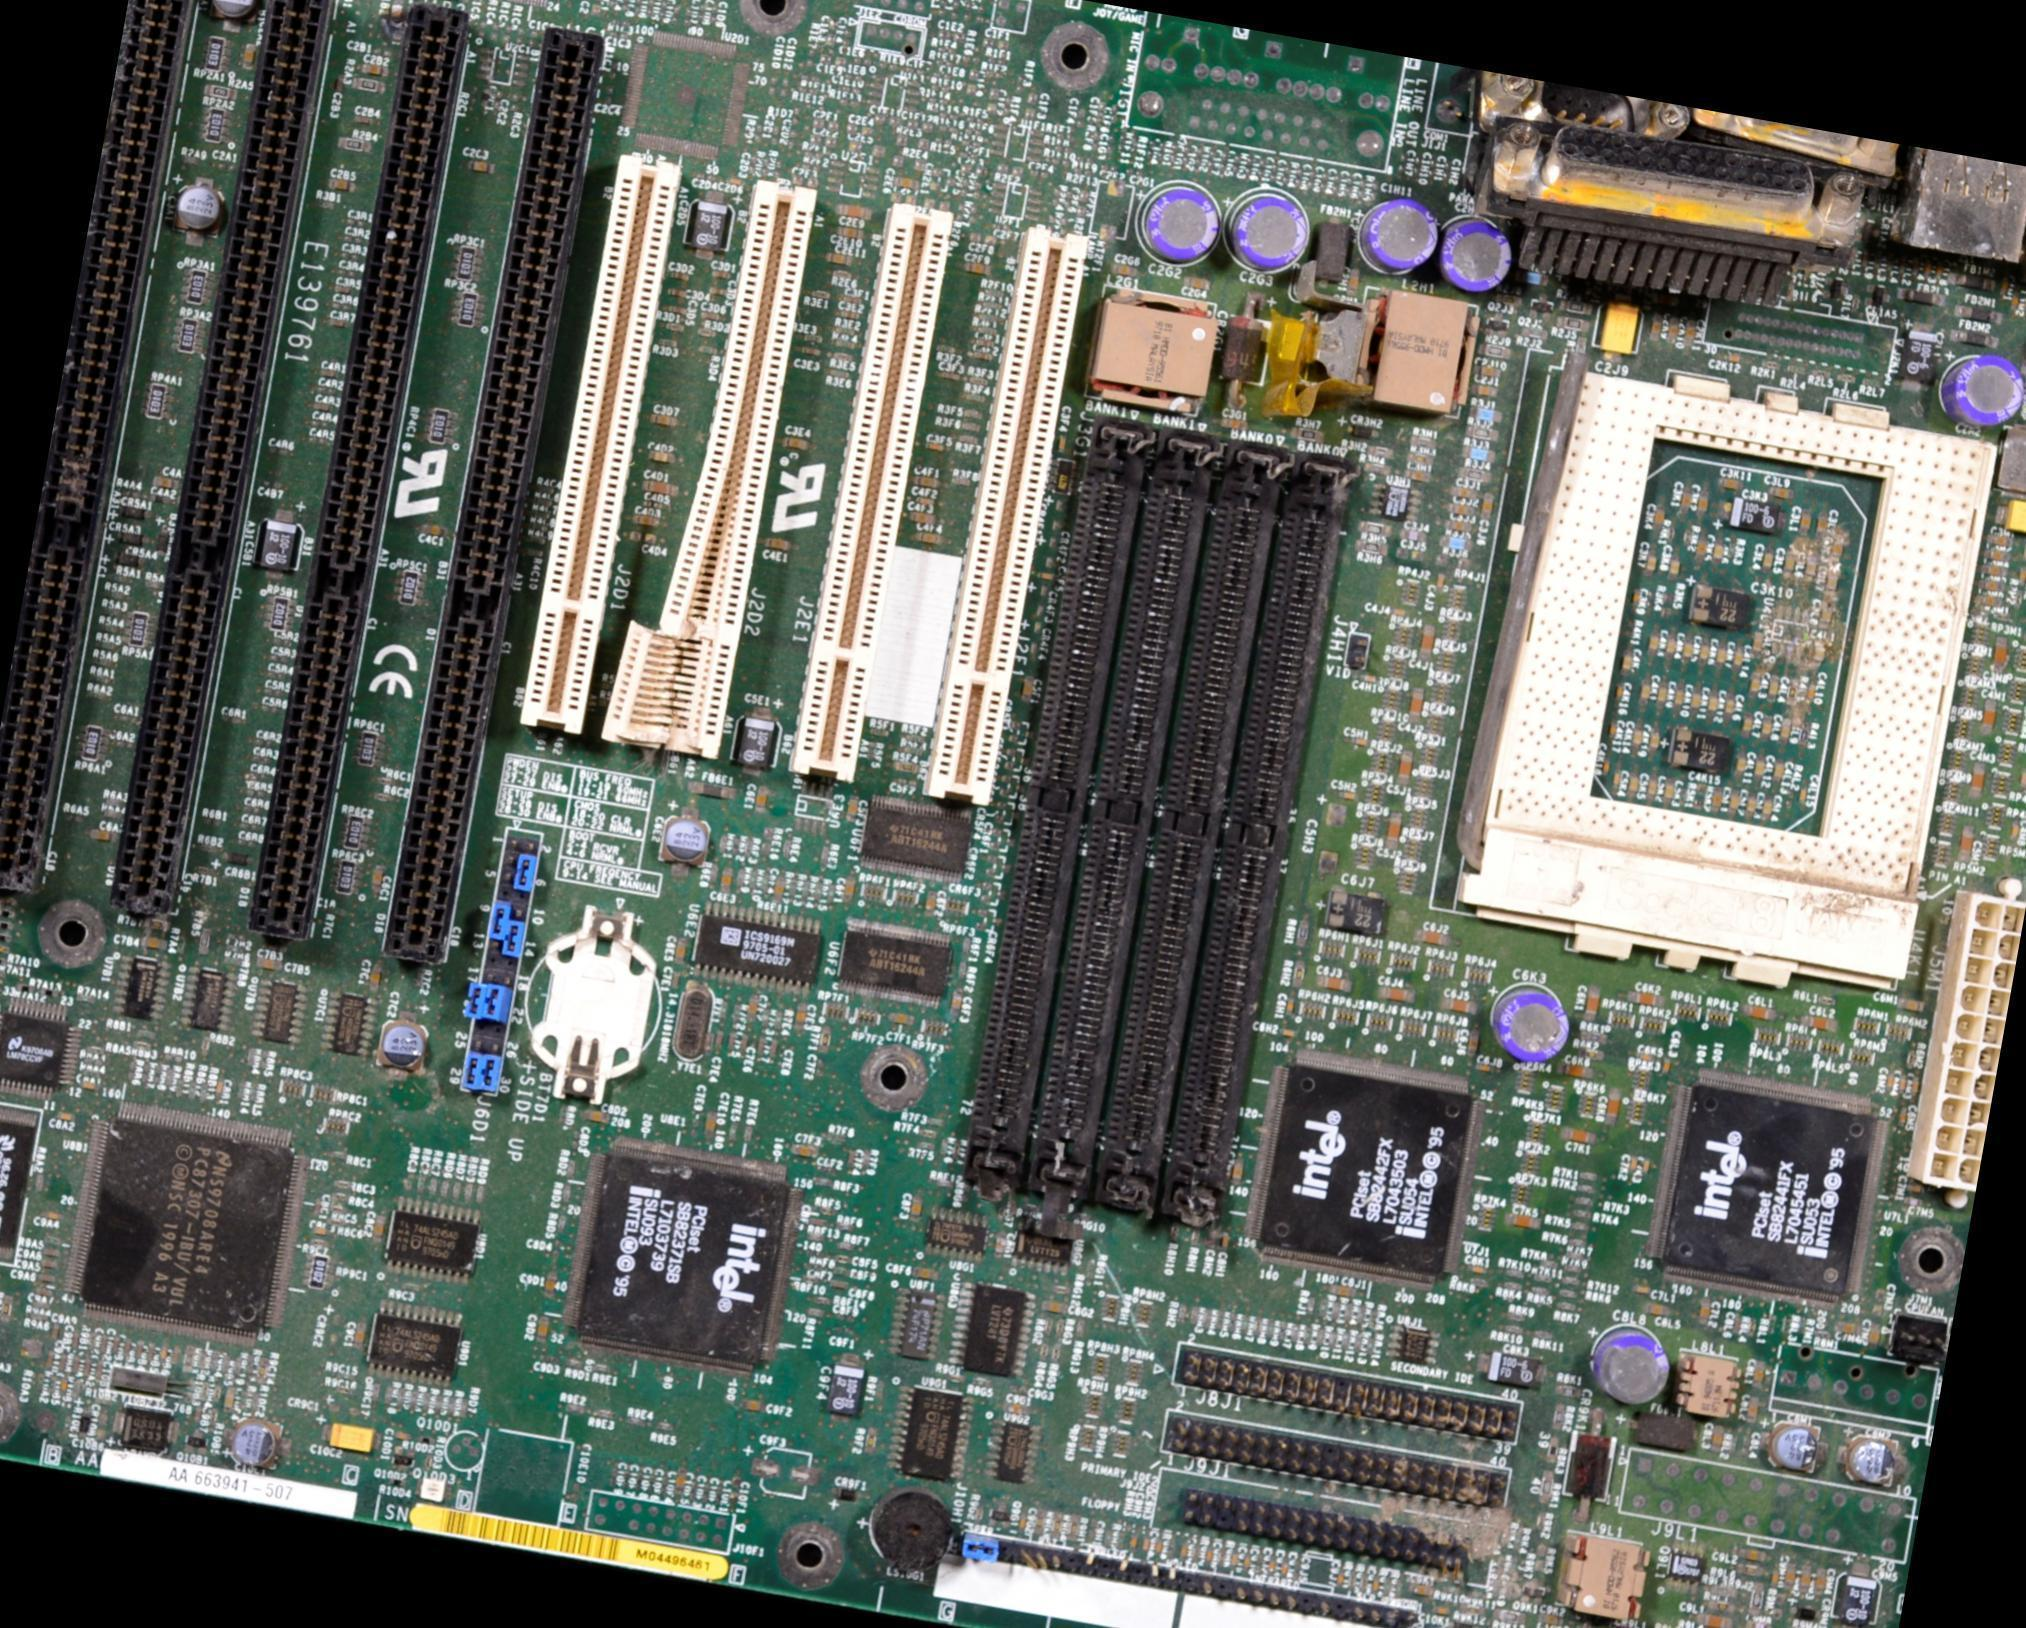Capacitor: (1375, 984, 1419, 1005), (1412, 928, 1455, 949), (832, 202, 874, 223), (1314, 973, 1354, 993), (1603, 1086, 1622, 1126), (1979, 697, 1999, 738), (1967, 762, 1988, 799), (1384, 812, 1404, 851), (1417, 622, 1435, 662), (1625, 989, 1665, 1006), (1989, 635, 2010, 671), (640, 479, 680, 497), (1038, 1294, 1069, 1316), (1802, 1014, 1839, 1032), (1956, 825, 1975, 863), (1741, 1004, 1775, 1021), (1584, 984, 1602, 1018), (1439, 996, 1474, 1015), (1561, 1126, 1596, 1145), (1505, 1212, 1540, 1231), (778, 435, 812, 453), (1558, 1063, 1594, 1080), (762, 534, 795, 552), (909, 1263, 939, 1282), (909, 1190, 925, 1224), (628, 513, 663, 530), (753, 783, 770, 814), (1735, 1545, 1767, 1564), (1797, 1562, 1813, 1594), (646, 412, 680, 429), (1409, 686, 1425, 720), (913, 528, 943, 546), (1698, 1612, 1732, 1627), (1396, 749, 1412, 784), (738, 1396, 765, 1413), (841, 874, 857, 903), (790, 1143, 820, 1160), (1666, 318, 1680, 350), (961, 260, 991, 278), (1619, 647, 1635, 676), (718, 867, 735, 894), (889, 1010, 915, 1028), (239, 43, 257, 69), (1681, 319, 1696, 350), (771, 874, 787, 902), (88, 826, 117, 842), (949, 989, 965, 1017), (140, 935, 168, 952), (582, 1108, 610, 1124), (543, 1270, 559, 1298), (646, 448, 675, 465), (369, 865, 384, 896), (368, 962, 383, 992), (1643, 1302, 1672, 1317), (1812, 1566, 1827, 1596), (325, 178, 355, 192), (1480, 491, 1495, 522), (913, 473, 943, 489), (1645, 728, 1660, 758), (255, 956, 283, 972), (832, 226, 865, 240), (844, 794, 859, 822), (1897, 996, 1925, 1012), (702, 1110, 717, 1138), (1695, 1297, 1711, 1326), (1328, 1283, 1356, 1297), (1751, 1360, 1765, 1388), (1745, 1395, 1760, 1423), (1709, 1425, 1724, 1454), (535, 1314, 550, 1342), (1782, 1562, 1797, 1590), (1536, 1611, 1564, 1627), (359, 62, 387, 77), (893, 175, 921, 190), (1648, 314, 1663, 342), (1110, 263, 1137, 278), (1183, 275, 1211, 291), (467, 159, 495, 174), (1473, 384, 1501, 399), (908, 509, 936, 524), (1768, 485, 1793, 501), (1407, 1582, 1433, 1597), (824, 251, 851, 265), (152, 474, 179, 489), (1646, 774, 1660, 801), (1430, 1600, 1451, 1618), (39, 1209, 66, 1222), (419, 523, 446, 537), (1866, 1323, 1881, 1347), (1475, 364, 1500, 378), (1713, 641, 1728, 666), (1709, 787, 1724, 813), (1833, 1320, 1860, 1334), (352, 1323, 366, 1349), (1346, 267, 1360, 294), (1984, 533, 2011, 547), (1448, 502, 1474, 515), (1761, 715, 1773, 741), (1779, 718, 1792, 745), (1626, 773, 1639, 799), (923, 891, 938, 914), (793, 1002, 806, 1031), (745, 994, 757, 1023), (1721, 476, 1743, 491), (372, 1215, 386, 1240), (1140, 1531, 1153, 1556), (222, 1386, 235, 1411), (1982, 549, 2008, 561), (1449, 483, 1475, 497), (1711, 539, 1724, 563), (1445, 518, 1469, 532), (1679, 635, 1693, 660), (1749, 672, 1762, 697), (1740, 712, 1753, 738), (1630, 725, 1644, 749), (1744, 793, 1757, 817), (1021, 677, 1034, 703), (1662, 778, 1674, 805), (674, 937, 686, 963), (1004, 1400, 1028, 1414), (665, 302, 687, 315), (1696, 491, 1709, 515), (1679, 488, 1693, 512), (1220, 417, 1244, 430), (1982, 563, 2006, 576), (922, 440, 945, 453), (1698, 638, 1711, 661), (1689, 687, 1703, 711), (1672, 686, 1686, 709), (1753, 757, 1767, 780), (1734, 754, 1747, 777), (1761, 797, 1773, 820), (1666, 557, 1680, 577), (1763, 545, 1776, 570), (1694, 533, 1706, 559), (1705, 690, 1717, 714), (1728, 790, 1741, 816), (1473, 1061, 1494, 1074), (308, 1225, 328, 1237), (1203, 1542, 1215, 1564), (1724, 350, 1746, 364), (711, 268, 733, 280), (666, 285, 688, 299), (1652, 510, 1665, 532), (1978, 577, 2000, 590), (1770, 759, 1784, 781), (77, 1079, 100, 1092), (350, 114, 374, 126), (1976, 594, 2000, 606), (1645, 552, 1658, 574), (913, 495, 937, 507), (1656, 681, 1668, 704), (331, 283, 351, 295), (1664, 634, 1677, 655), (670, 970, 681, 991), (699, 309, 720, 320), (1804, 682, 1815, 705), (1767, 677, 1779, 699), (1639, 677, 1651, 700), (2007, 820, 2020, 843), (1909, 1075, 1920, 1098), (1284, 996, 1296, 1016), (1897, 1106, 1908, 1127), (670, 270, 690, 283), (707, 285, 727, 297), (1034, 570, 1054, 581), (1723, 695, 1736, 715), (54, 1111, 76, 1122), (328, 300, 351, 311), (1608, 720, 1618, 741), (1641, 1158, 1652, 1176), (325, 316, 343, 328), (317, 369, 335, 380), (1279, 1028, 1298, 1039), (1467, 1264, 1487, 1274), (1770, 1567, 1781, 1587), (335, 266, 355, 276), (1056, 434, 1066, 454), (310, 402, 330, 412), (1796, 786, 1806, 806), (1906, 1183, 1923, 1194), (1434, 571, 1446, 588), (2016, 768, 2025, 791), (1660, 1057, 1671, 1075), (1627, 1155, 1637, 1172), (2010, 292, 2020, 311), (1267, 1558, 1277, 1576), (1241, 1554, 1251, 1572), (393, 1430, 412, 1441), (1339, 789, 1356, 799), (1335, 1567, 1344, 1588), (1898, 1073, 1906, 1093), (1885, 1071, 1893, 1091), (1632, 1283, 1649, 1293), (1229, 1550, 1239, 1567), (726, 176, 745, 185), (1392, 607, 1408, 616), (1360, 673, 1377, 682), (214, 1079, 223, 1098), (1371, 1573, 1380, 1592), (58, 1377, 67, 1396), (1601, 759, 1610, 777), (1352, 736, 1367, 746), (2017, 565, 2025, 587), (1017, 1515, 1026, 1529), (1154, 1539, 1163, 1554), (1279, 1561, 1287, 1577), (1179, 1544, 1187, 1559), (1637, 1051, 1651, 1060), (2021, 293, 2025, 317), (2021, 542, 2025, 564)
Resistor: (1746, 1582, 1764, 1615), (1492, 1606, 1525, 1624), (1539, 1472, 1555, 1507), (0, 1293, 14, 1324), (1292, 961, 1306, 987), (1551, 1402, 1565, 1429), (864, 1426, 877, 1452), (1295, 920, 1307, 947), (1544, 1440, 1556, 1467), (257, 1355, 269, 1381)
